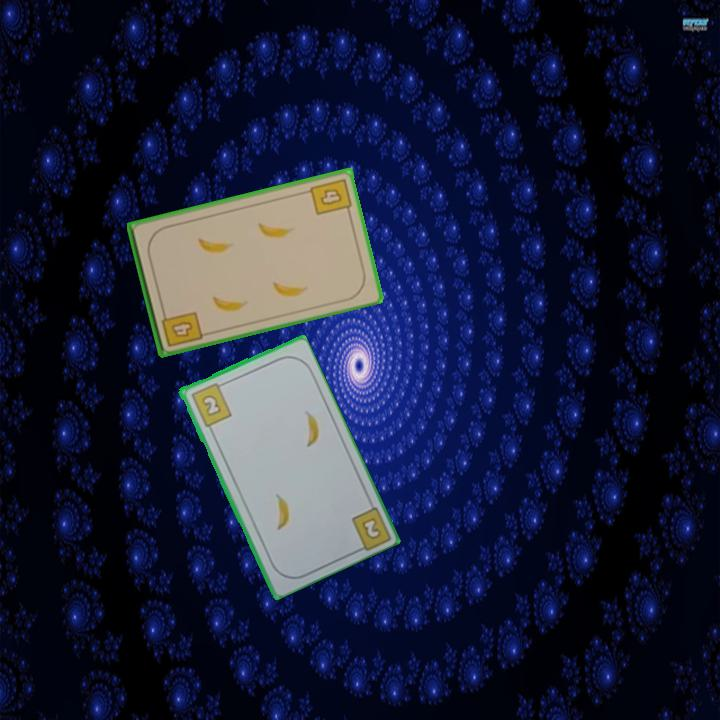2b: (187, 379, 234, 429), (358, 514, 384, 542)
4b: (307, 175, 354, 218), (158, 306, 205, 349)
